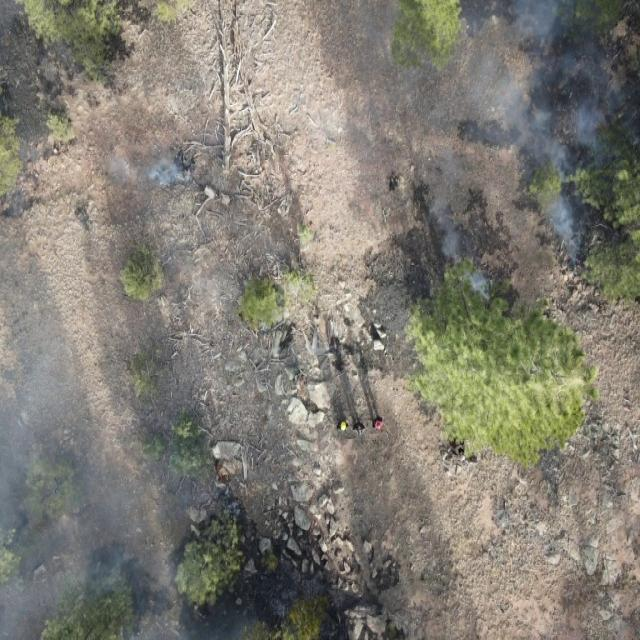fire: (216, 468, 230, 484)
smoke: (346, 0, 622, 301), (0, 327, 225, 640), (170, 208, 276, 333), (0, 0, 97, 125), (101, 120, 223, 214)
